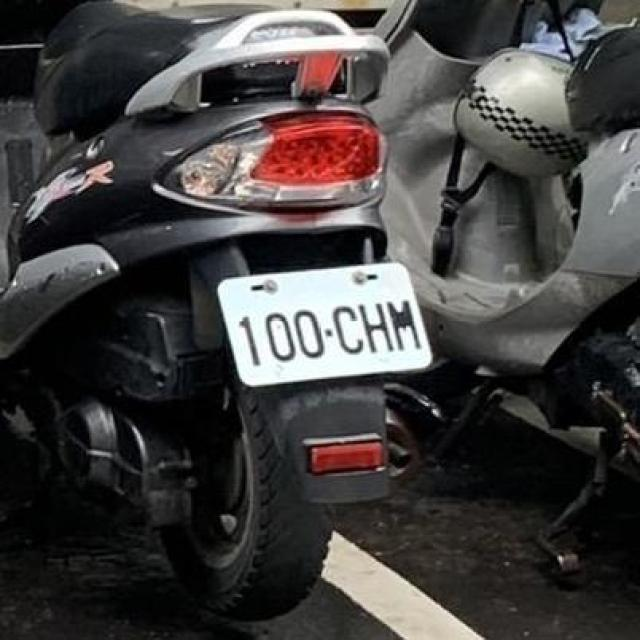W: (214, 244, 436, 396)
